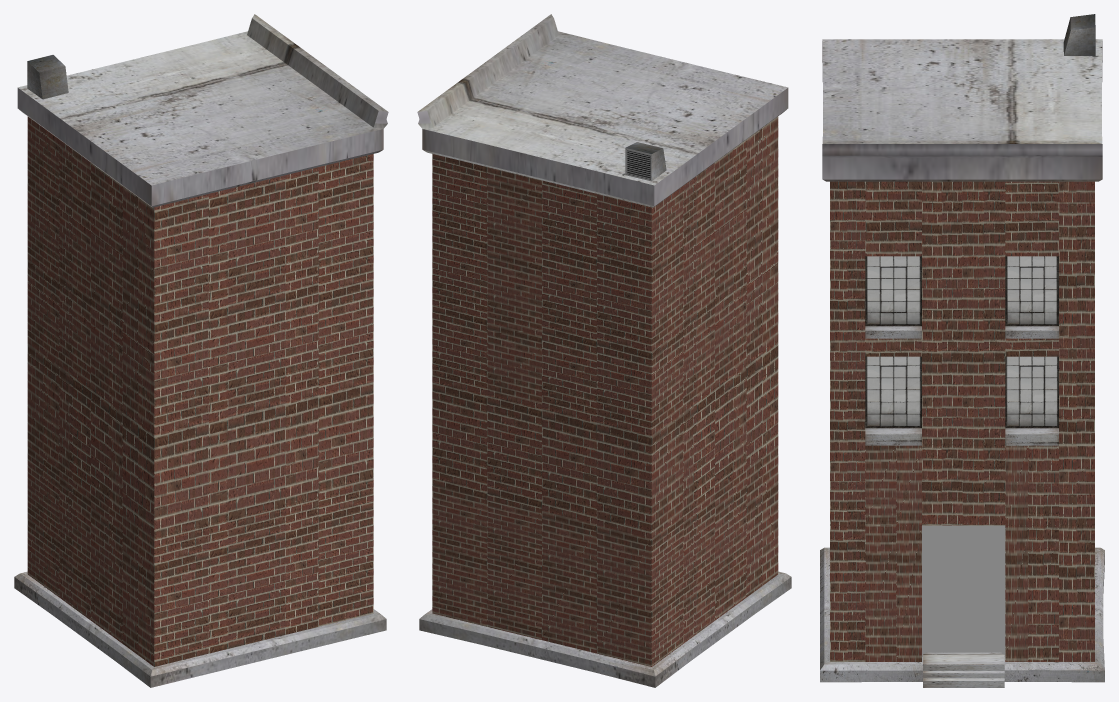
File: BuildingThree.fbx
3 views of the same model, side by side, from view 1: azimuth 30°, elevation 25°; view 2: azimuth 150°, elevation 25°; view 3: azimuth 270°, elevation 25° (orthographic). The views are drawn at different scales.
Visible parts, largest first — view 1: pCube24; view 2: pCube24; view 3: pCube24.
Boxes of the visible parts, x1=… form: pCube24: x1=14, y1=14, x2=388, y2=687; pCube24: x1=417, y1=14, x2=791, y2=687; pCube24: x1=820, y1=14, x2=1104, y2=687.
Bounding box in the file's own units: 1.13 × 2.3 × 1.08.
